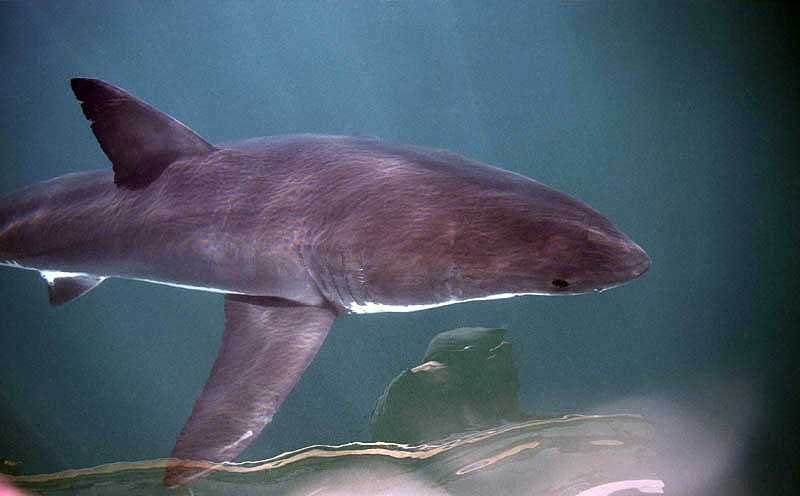Carcharodon_carcharias: (1, 61, 677, 466)
